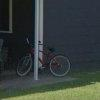Bicycle: (13, 32, 73, 84)
